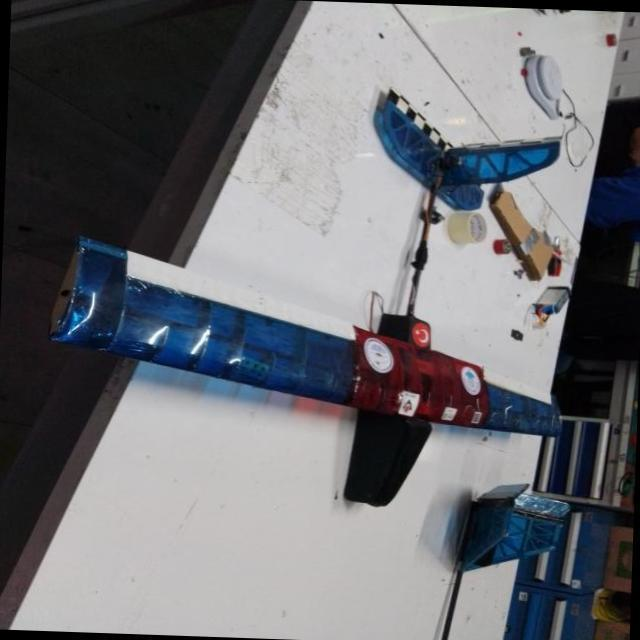iha: (62, 59, 589, 576)
